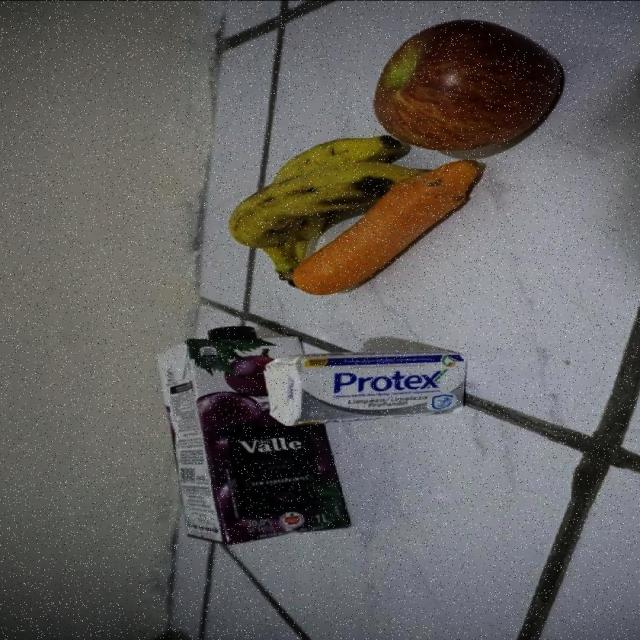Apple: (372, 14, 565, 151)
Banana: (228, 132, 440, 287)
Carrot: (292, 157, 486, 295)
Soap: (264, 348, 470, 426)
